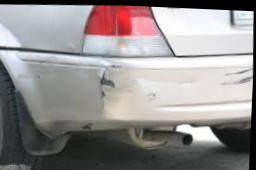Bumper: (22, 50, 157, 137), (187, 54, 254, 113)
Fender: (0, 12, 34, 50)
